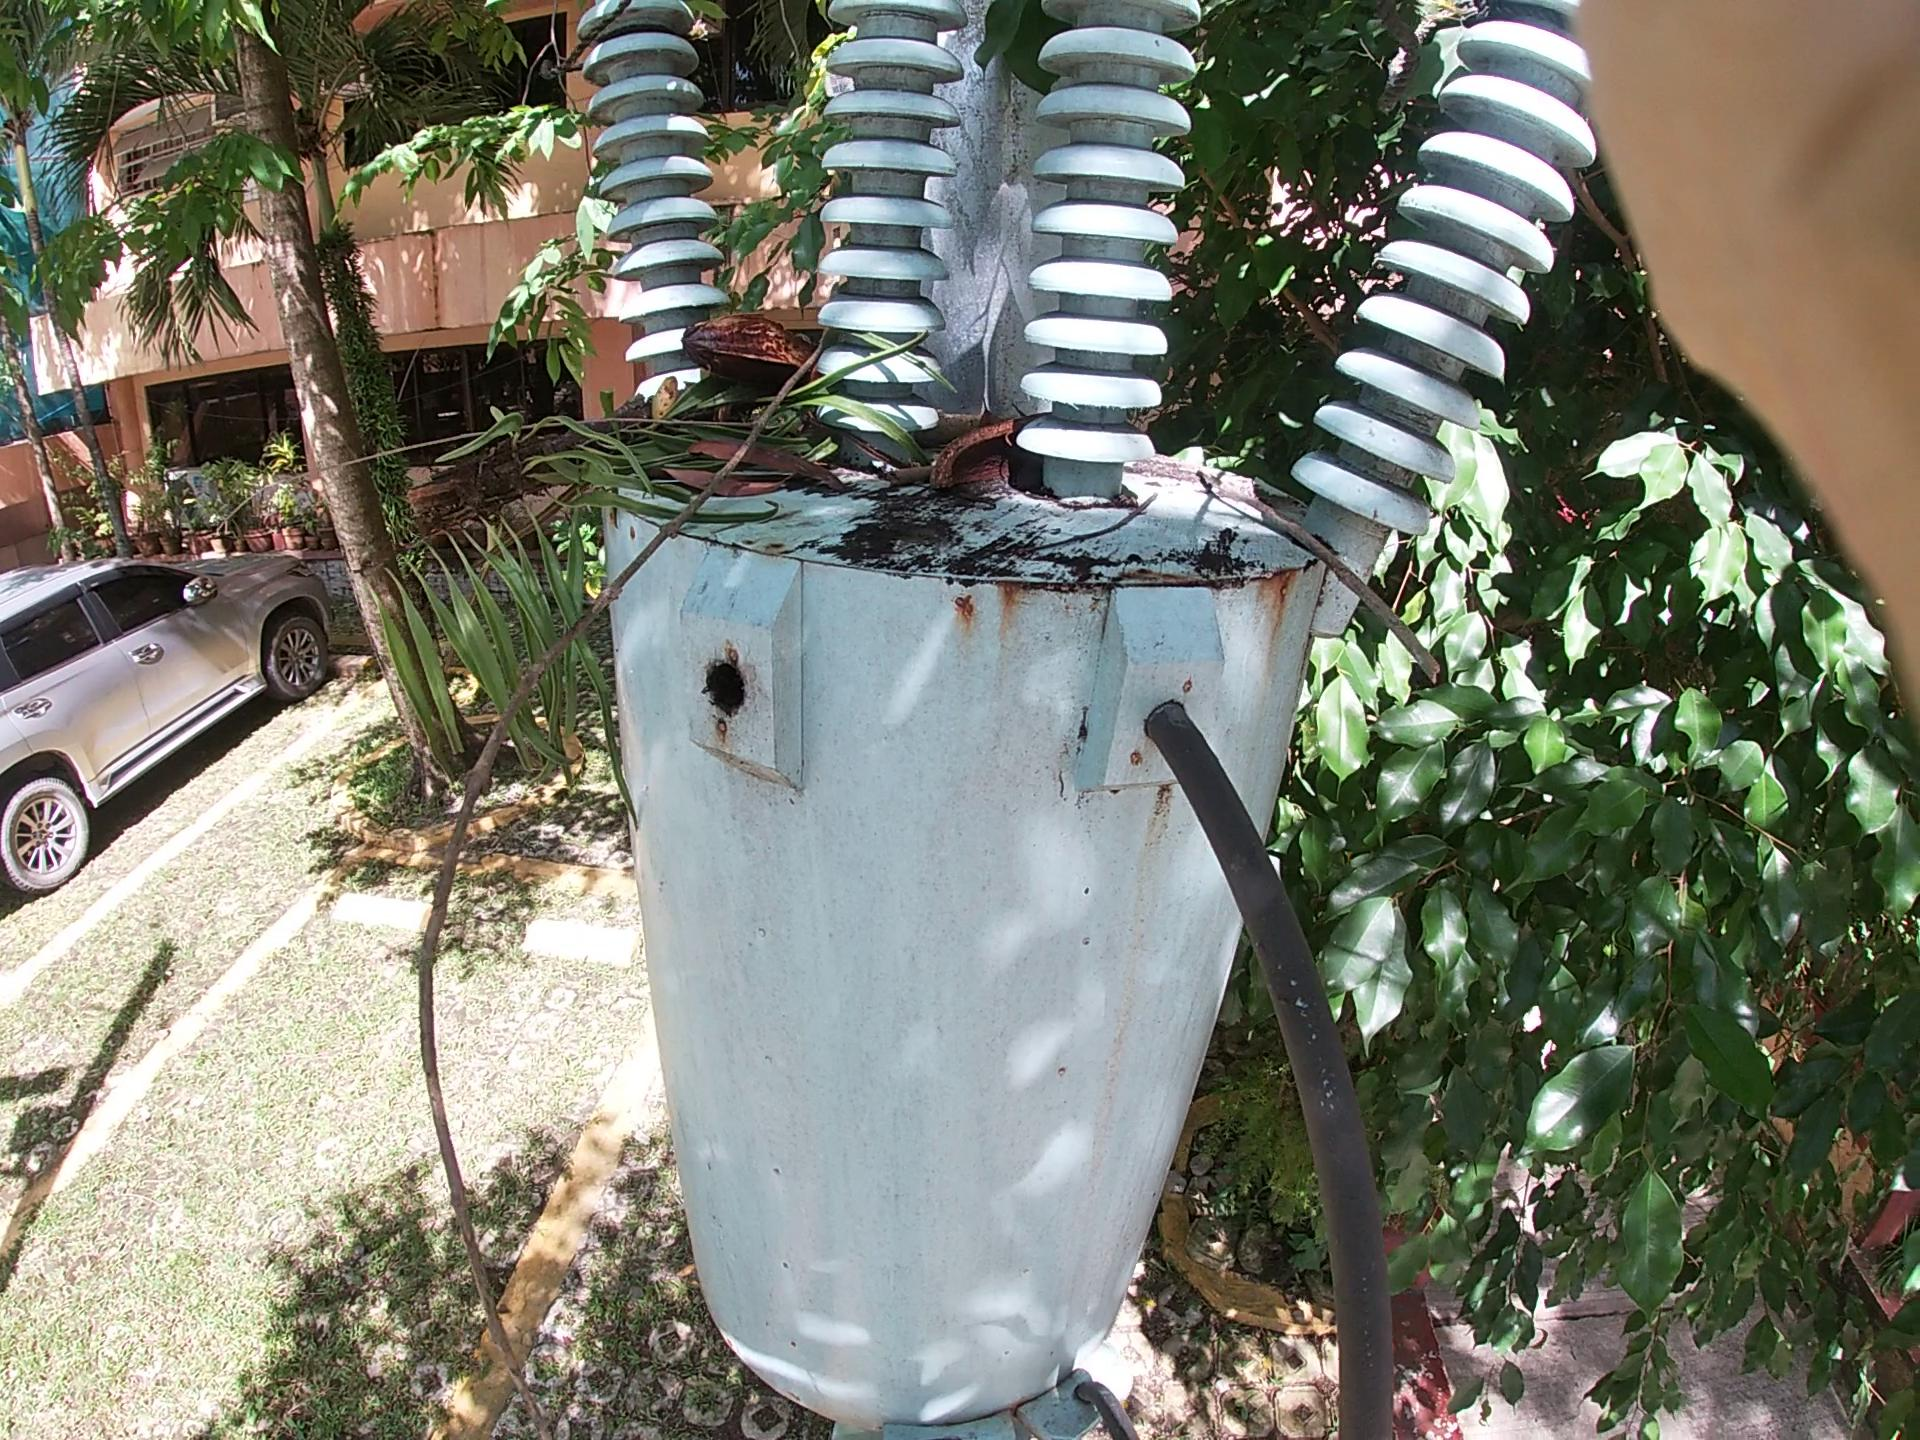branch with leaves: (290, 275, 1033, 555)
mahogany fruit: (688, 257, 977, 445), (931, 355, 1160, 579)
tree branch: (437, 296, 862, 985), (1166, 449, 1432, 700), (859, 395, 1005, 492)
